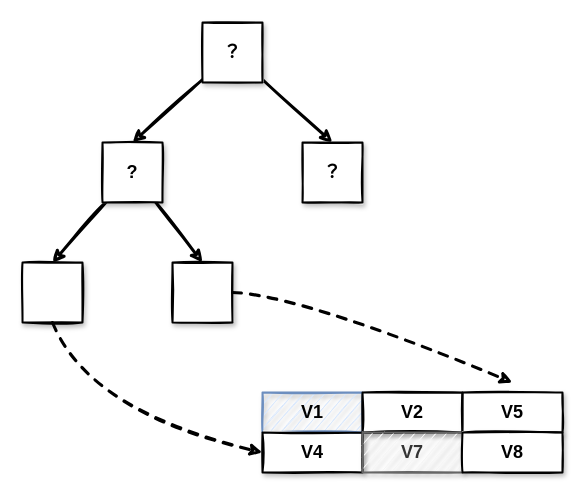
This 586x497 diagram has some shape labels left out. The shapes that lost their labels are listed below. From the top down, each one's centre as x and y in pixels, then its label:
At (x=53, y=293): "K 4".
At (x=203, y=293): "K 5".
